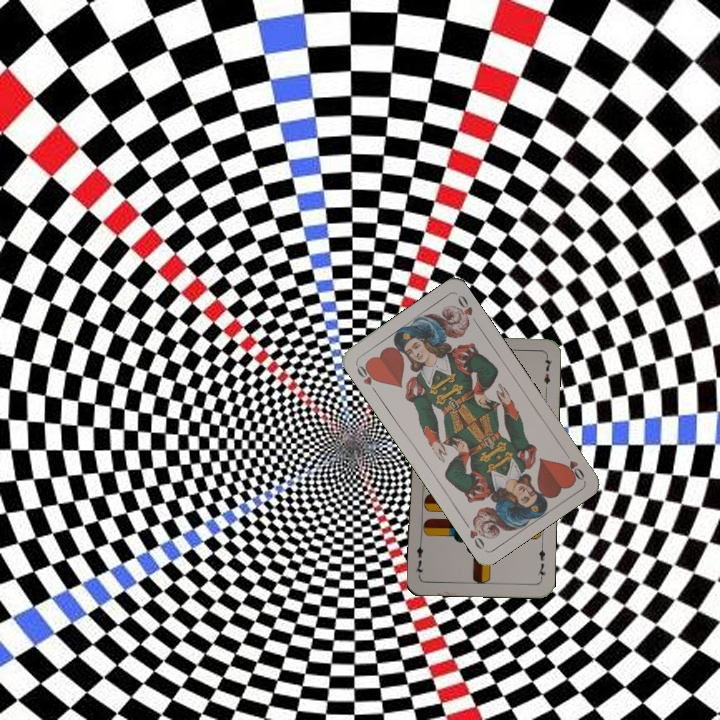E7: (534, 541, 548, 582)
HO: (352, 360, 380, 396), (559, 447, 587, 483)
